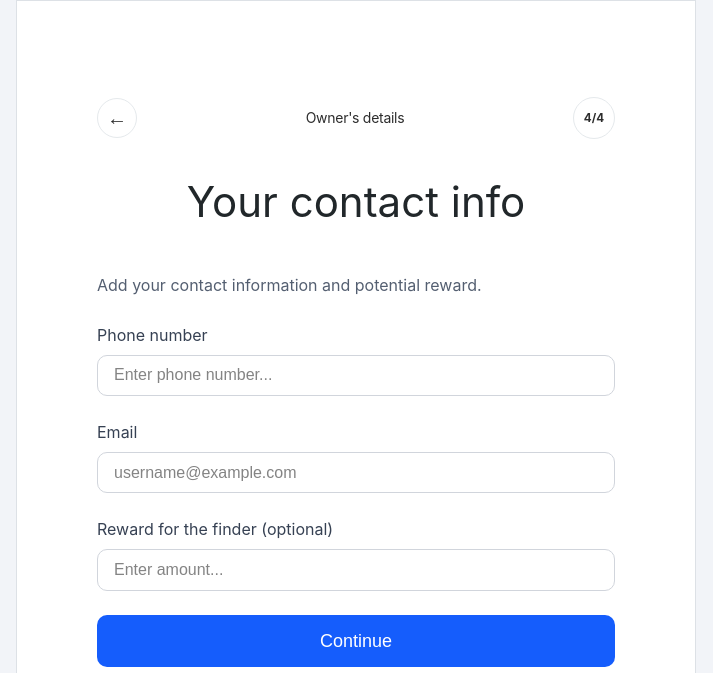
Test case: ContactScreen › validation feedback › should display email validation error when invalid
Type "invalid@" into the field with test id "contact.email.input" at (356, 473), box [97,452,615,493]
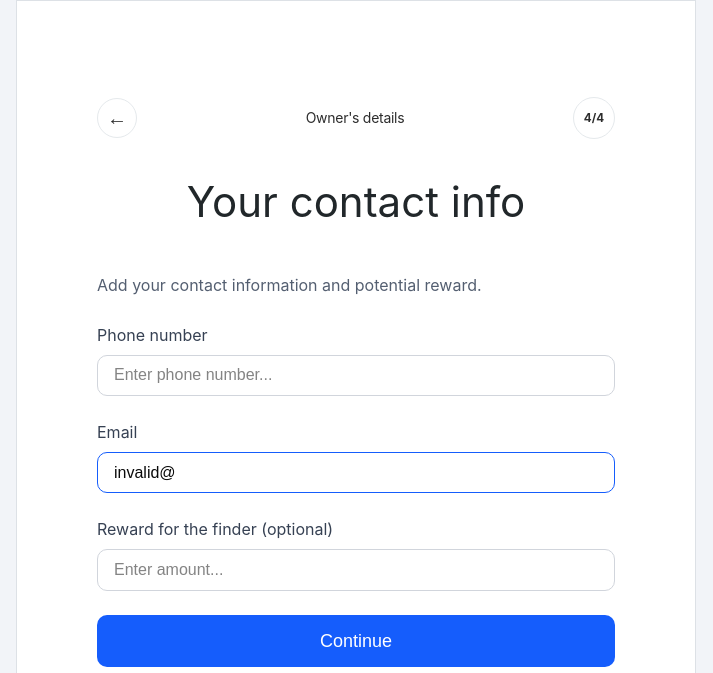
Click the button with test id "contact.continue.button" at (356, 641), box [97,615,615,667]
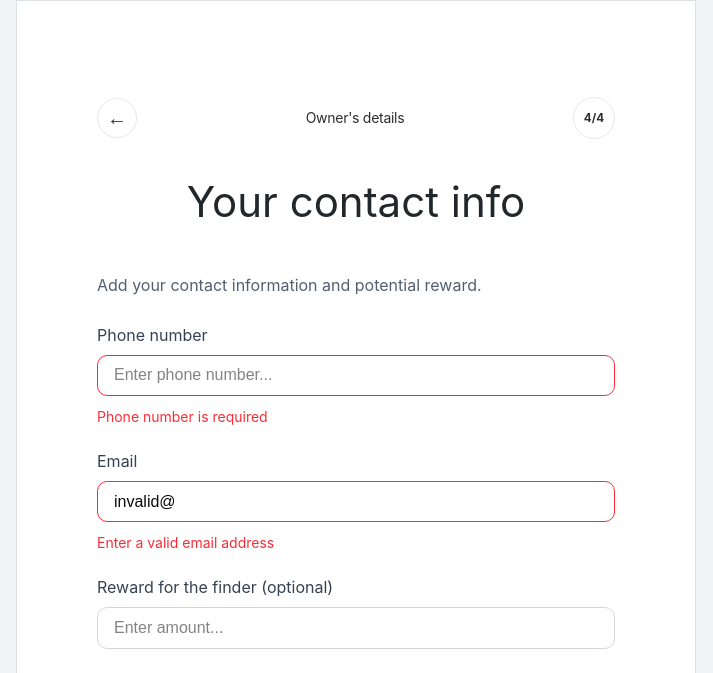
Check: the text "Enter a valid email address" is shown, box [97,534,274,551]
